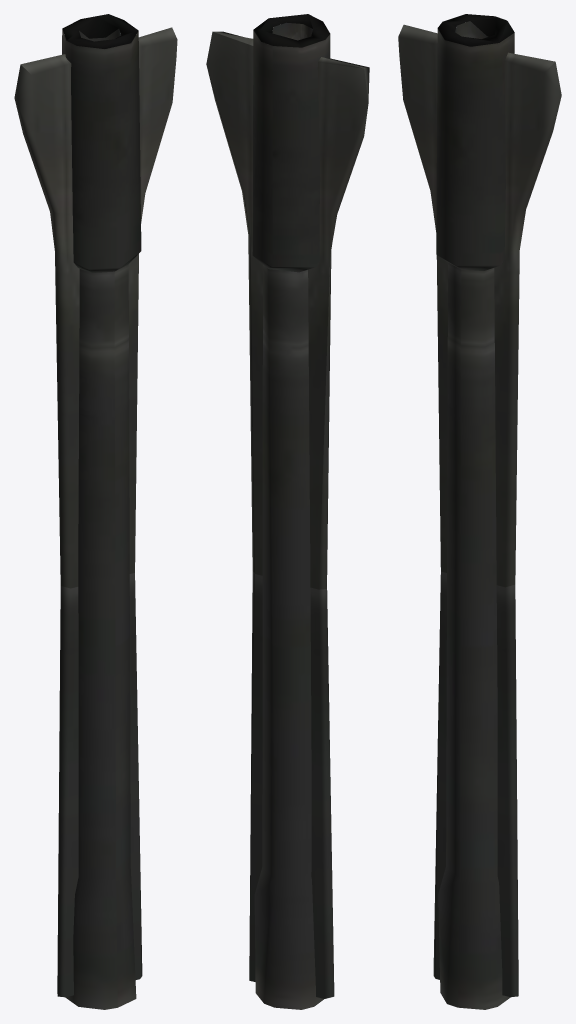
File: weak-repeater.glb
The picture shows the model from 3 angles, left to right: view 1: azimuth 30°, elevation 25°; view 2: azimuth 150°, elevation 25°; view 3: azimuth 330°, elevation 25°; orthographic projection.
Visible parts, largest first — view 1: VNCL_LC_S1_Q1_mesh; view 2: VNCL_LC_S1_Q1_mesh; view 3: VNCL_LC_S1_Q1_mesh.
Part boxes in pixels (box(x1,y1,x2,y2)): VNCL_LC_S1_Q1_mesh: box(14, 14, 177, 1009); VNCL_LC_S1_Q1_mesh: box(206, 14, 369, 1009); VNCL_LC_S1_Q1_mesh: box(398, 14, 561, 1009).
Bounding box in the file's own units: 0.2893 × 1.65 × 0.1249.
2 materials, 2 textured.
